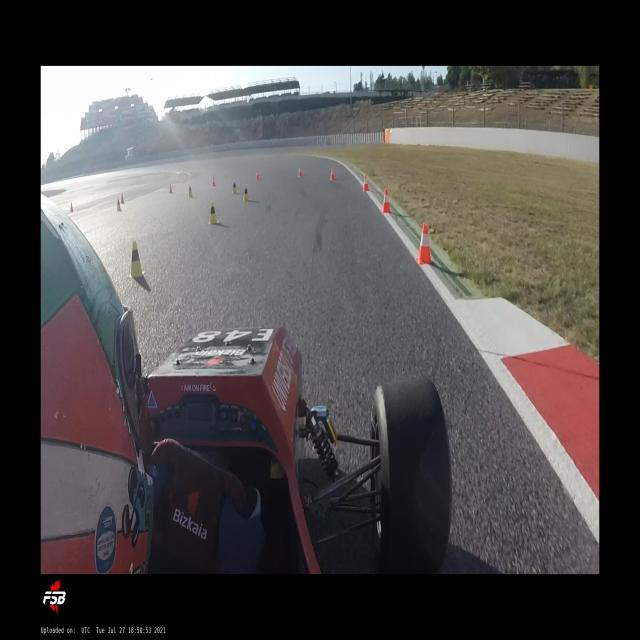orange_cone: (415, 222, 432, 266), (381, 189, 391, 213), (362, 174, 369, 192), (330, 167, 335, 180), (298, 165, 302, 177), (256, 169, 260, 180), (169, 183, 173, 194), (120, 193, 124, 204), (70, 201, 73, 213), (213, 176, 215, 187)
yellow_cone: (127, 240, 145, 277), (208, 200, 219, 224), (242, 184, 250, 201), (232, 182, 238, 194), (188, 185, 193, 198), (117, 198, 122, 210)
